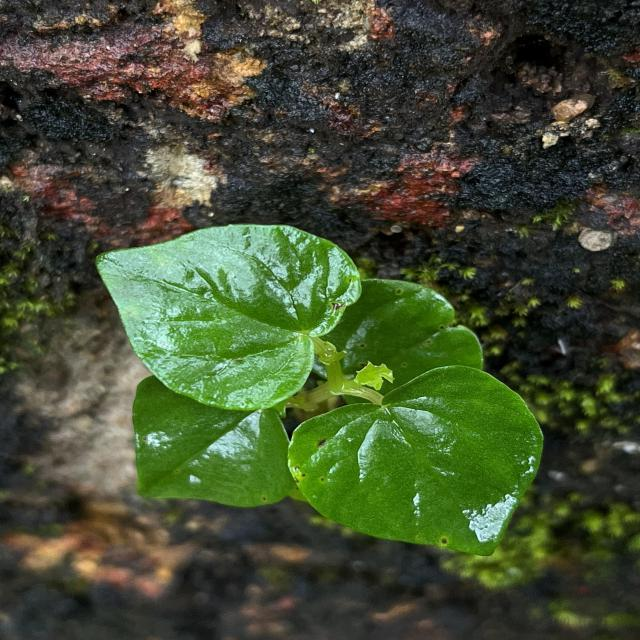Peperomia pellucida: (93, 222, 365, 414), (284, 364, 546, 558)
